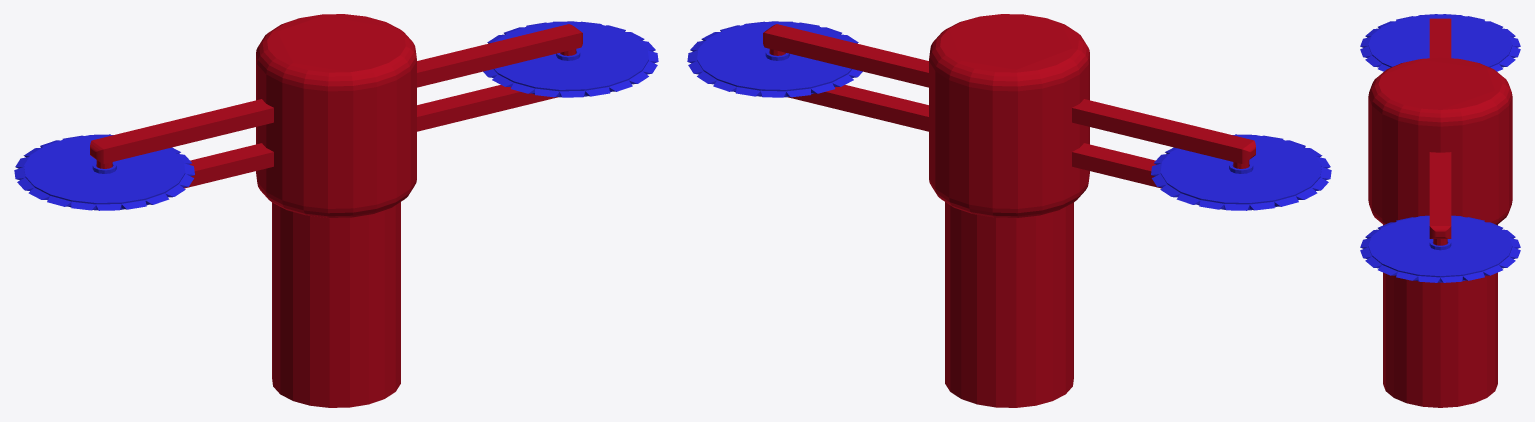
The model's file is Saw.fbx.
3 renders of one model, left to right at view 1: azimuth 30°, elevation 25°; view 2: azimuth 150°, elevation 25°; view 3: azimuth 270°, elevation 25°, orthographic. The views are drawn at different scales.
Parts seen in each view (by area): view 1: Stand, Saw1, Saw2; view 2: Stand, Saw1, Saw2; view 3: Stand, Saw2, Saw1.
Boxes of the visible parts, <box> form: Stand: <box>90,14,582,407</box>; Saw1: <box>14,134,194,210</box>; Saw2: <box>483,21,658,97</box>; Stand: <box>763,14,1255,407</box>; Saw1: <box>1151,134,1331,210</box>; Saw2: <box>687,21,862,97</box>; Stand: <box>1368,18,1512,407</box>; Saw2: <box>1360,215,1520,282</box>; Saw1: <box>1360,14,1520,71</box>.
Bounding box in the file's own units: 4.42 × 2.3 × 1.12.
